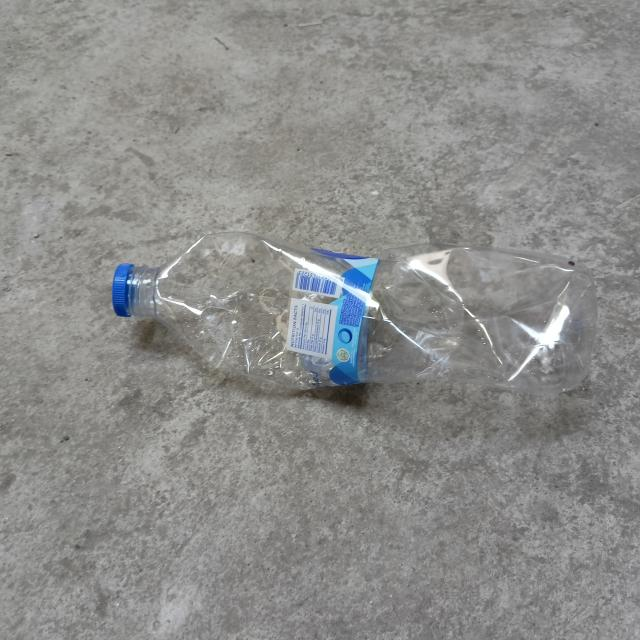Bottle: (112, 232, 597, 394)
